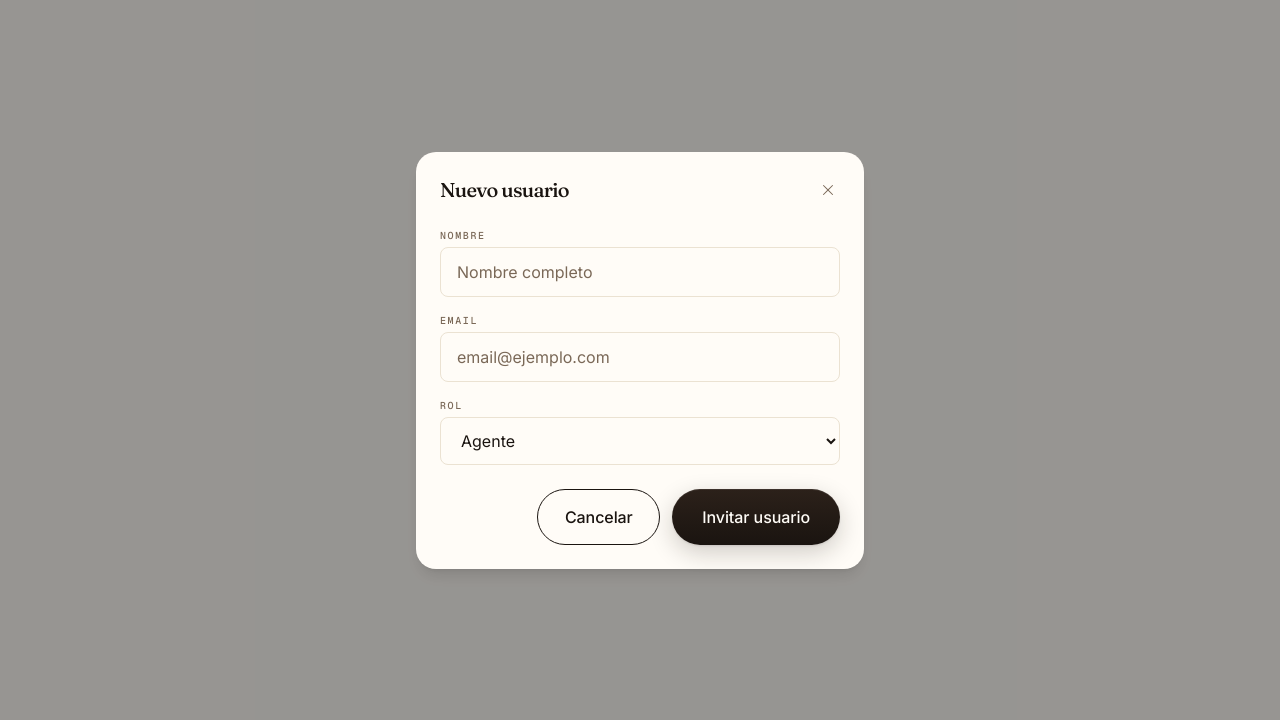
CreateUserDialog › shows success message after creation
This screenshot has width=1280, height=720.
Type "New User" into the field labelled "Nombre" at (640, 272), box [440,246,840,296]
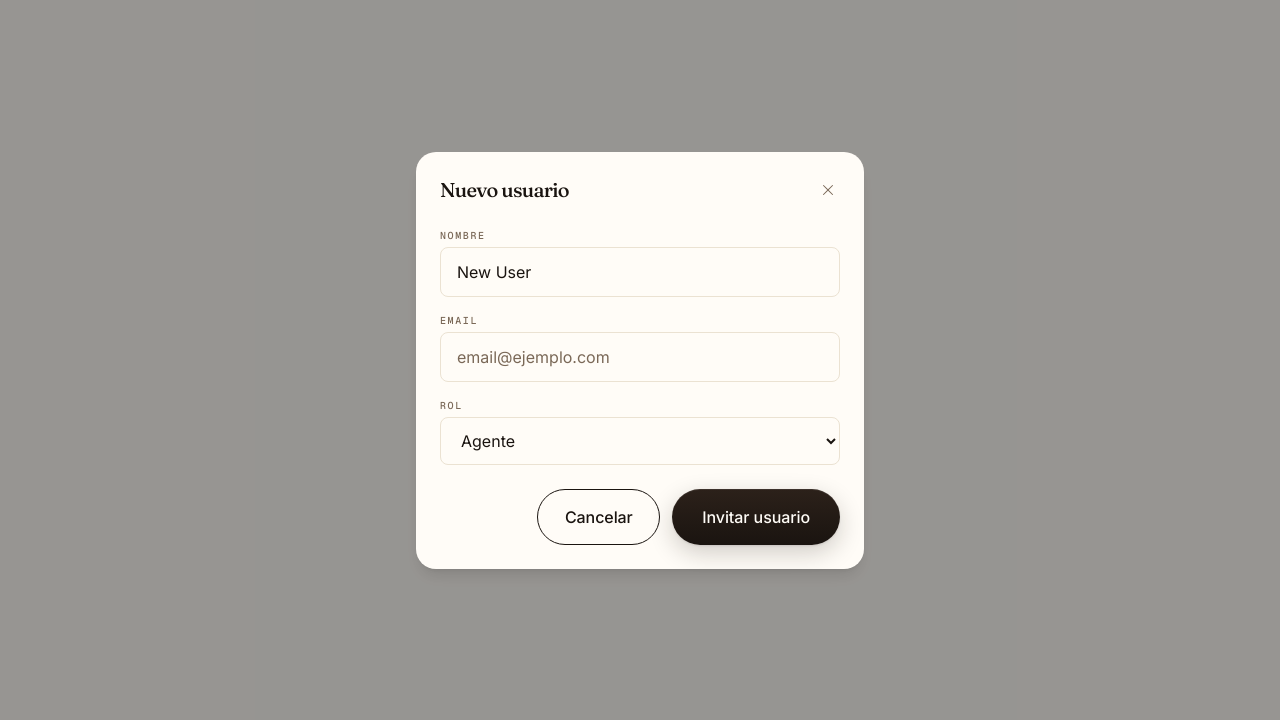
Type "new@wedomio.com" into the field labelled "Email" at (640, 356), box [440,332,840,382]
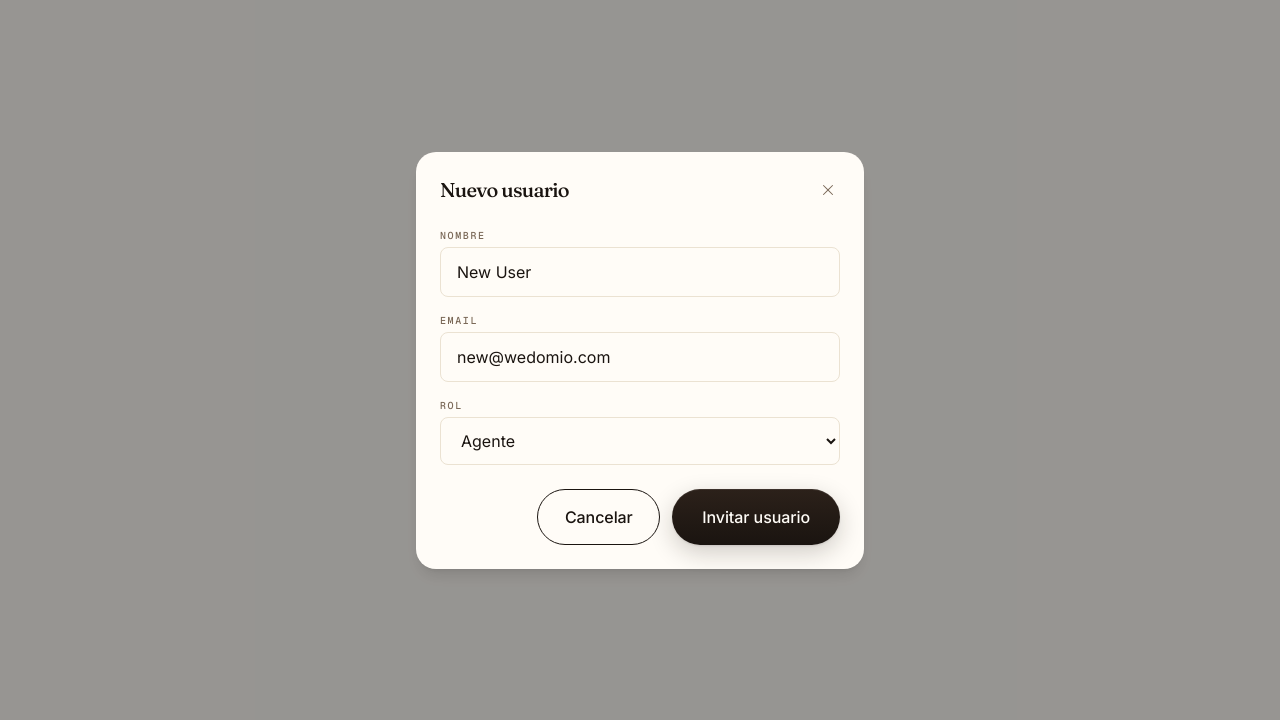
Submit the form, box [440,228,840,544]
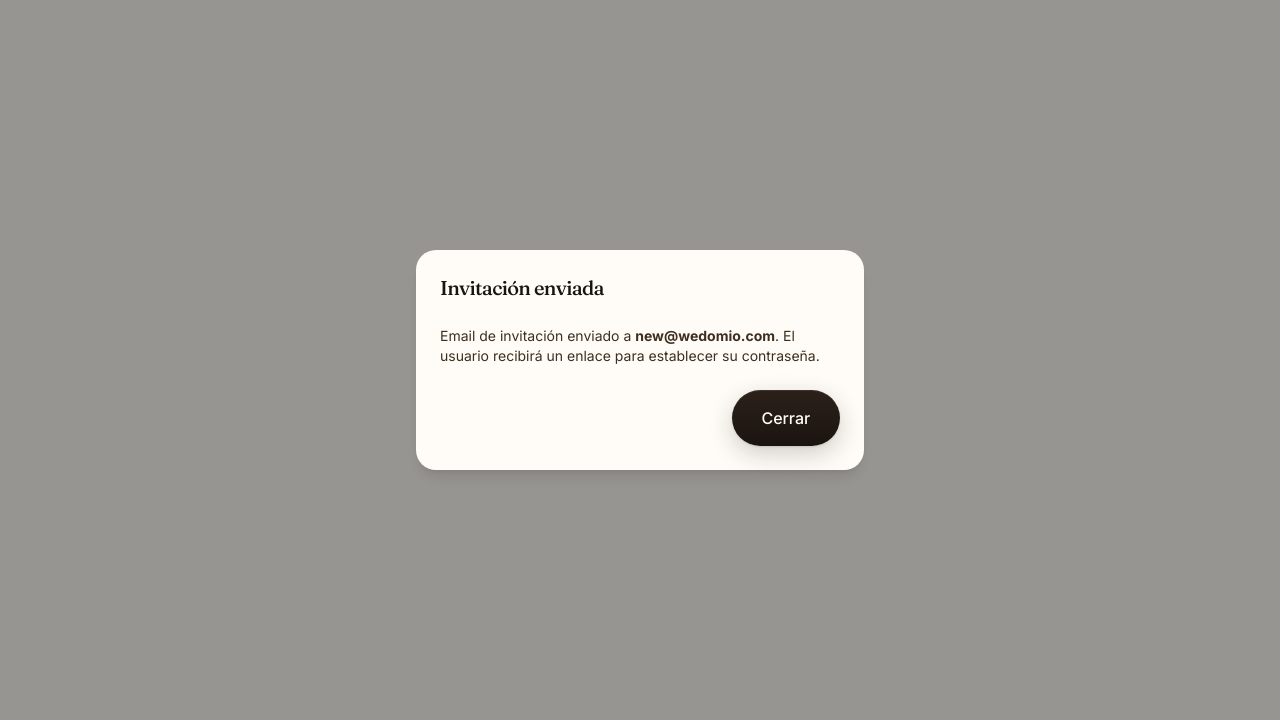
Check: the text "Email de invitación" is shown, box [440,327,635,344]
